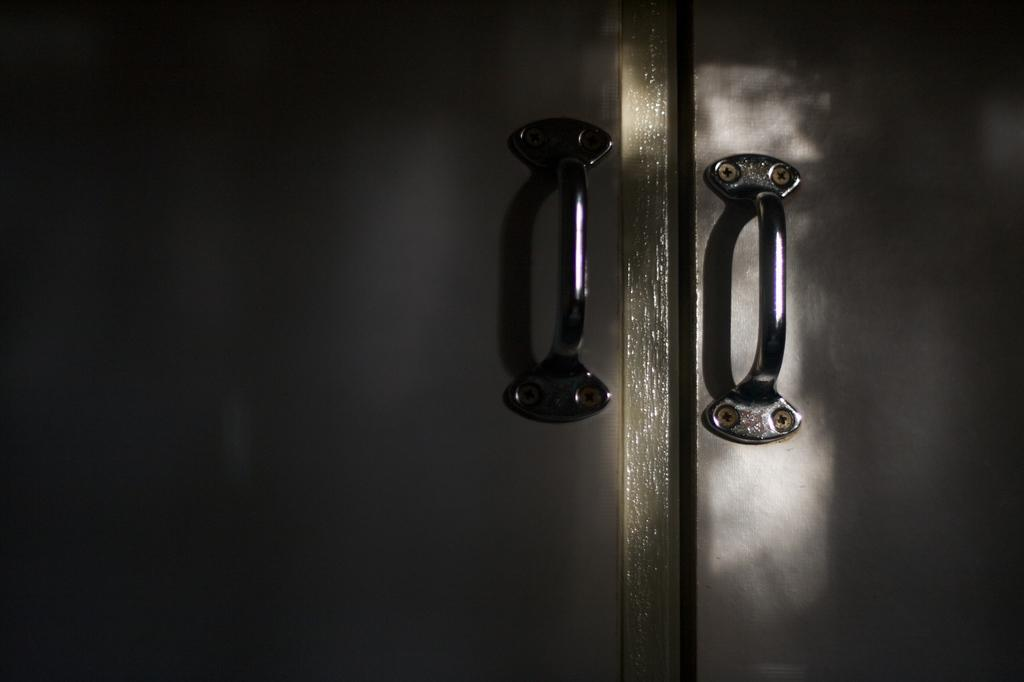handle: (505, 103, 616, 429), (707, 154, 809, 442)
